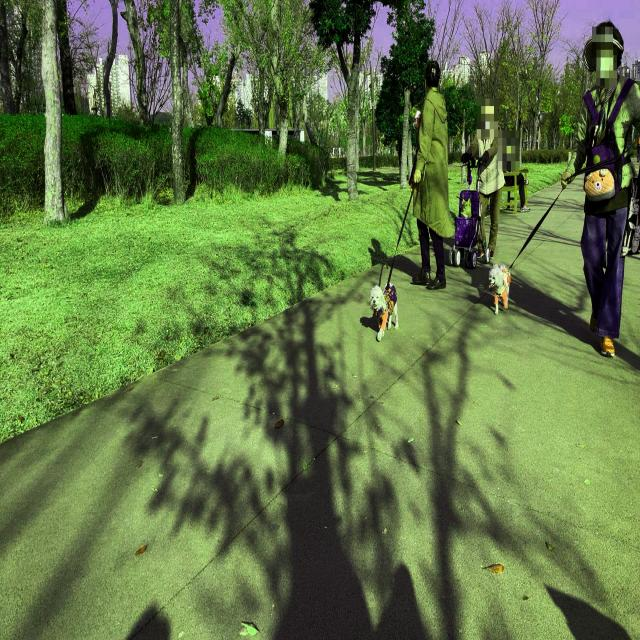Dog: (459, 197, 473, 217)
Leashed_Dog: (488, 168, 602, 316), (369, 180, 426, 342)
